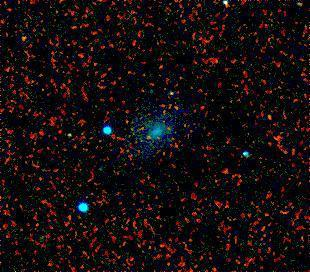star: (153, 79, 183, 109)
